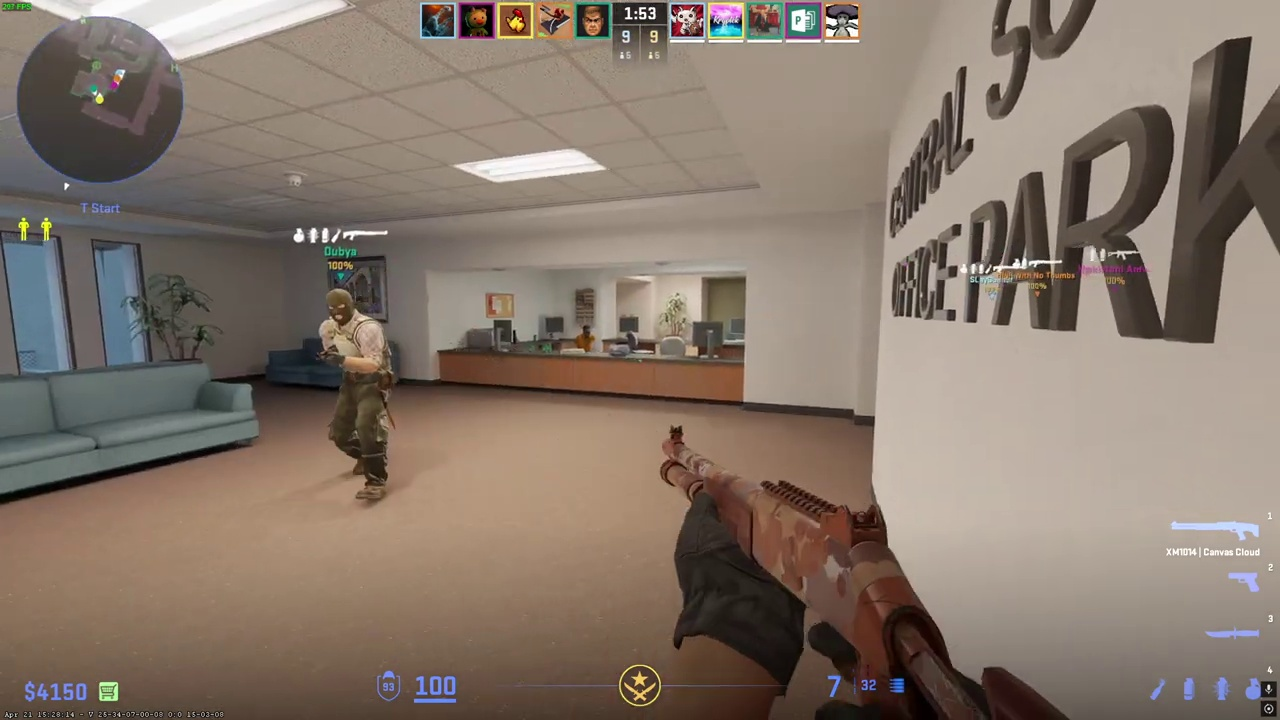Terrorist: (318, 288, 396, 500)
